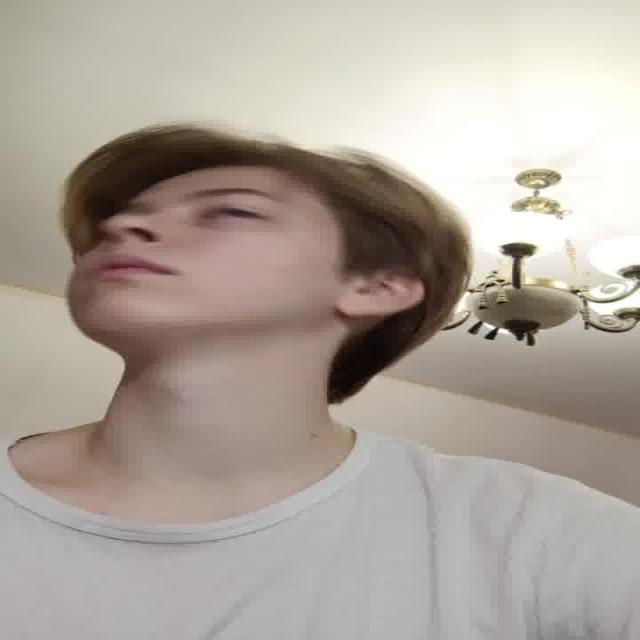earlobe: (335, 297, 397, 317)
eye: (199, 205, 270, 223)
nose: (95, 228, 160, 261)
wholeear: (335, 268, 426, 316)
